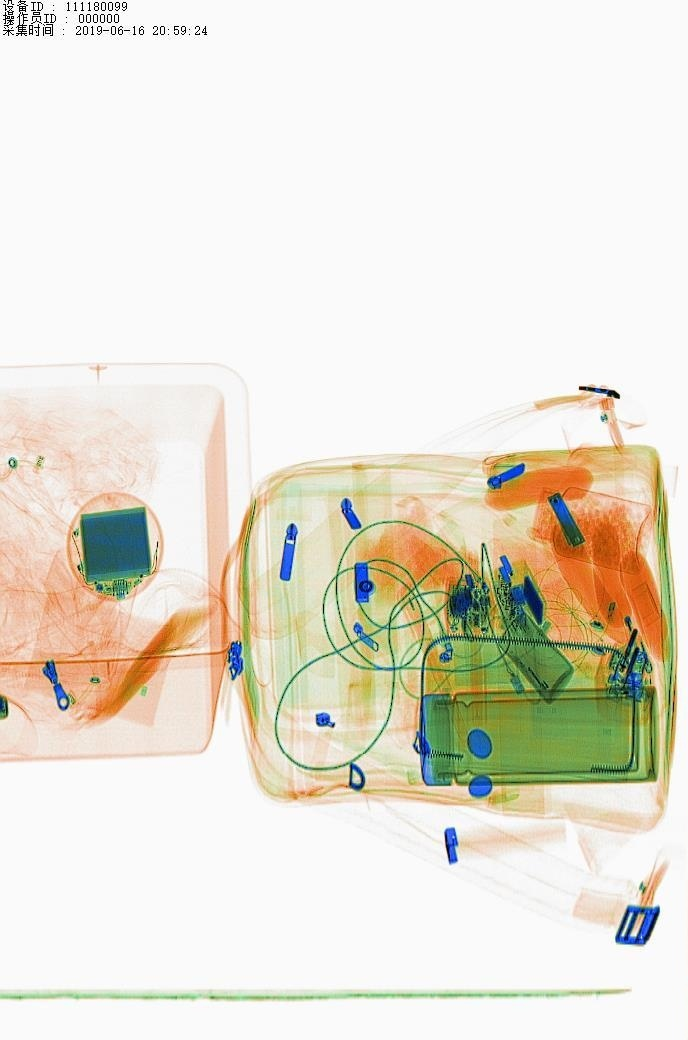NonmetallicFire: (609, 592, 659, 688)
